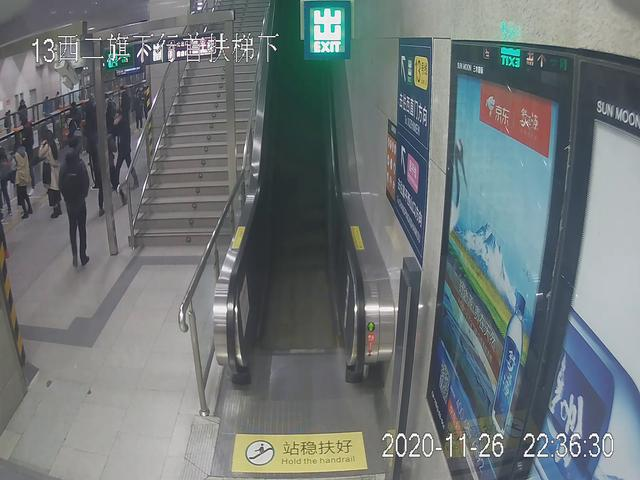person: (60, 134, 92, 265), (37, 130, 63, 215), (8, 141, 36, 217), (114, 112, 137, 191)
